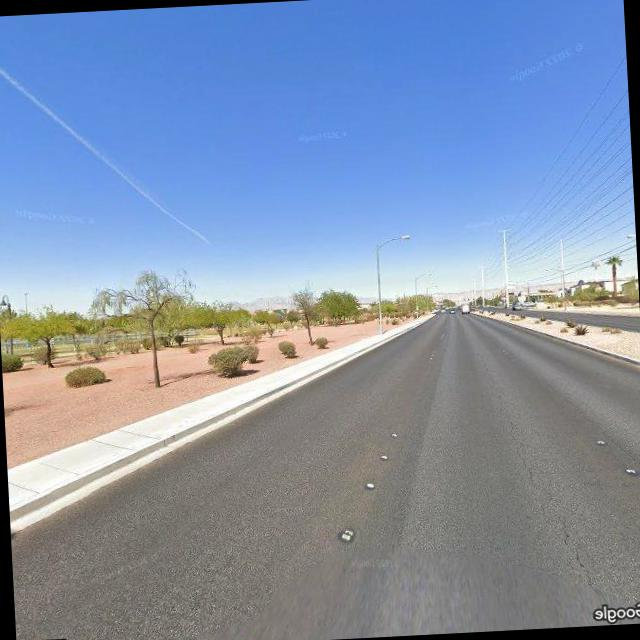pothole: (512, 441, 600, 592)
